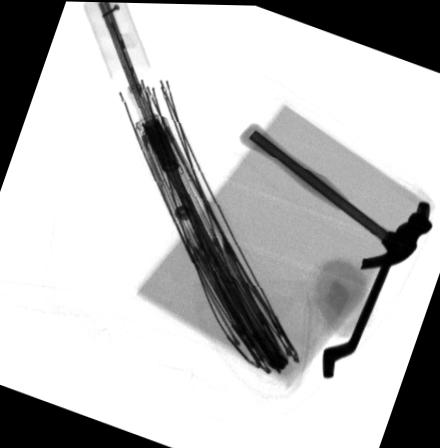Hammer: (237, 120, 429, 267)
Wrench: (321, 209, 432, 377)
